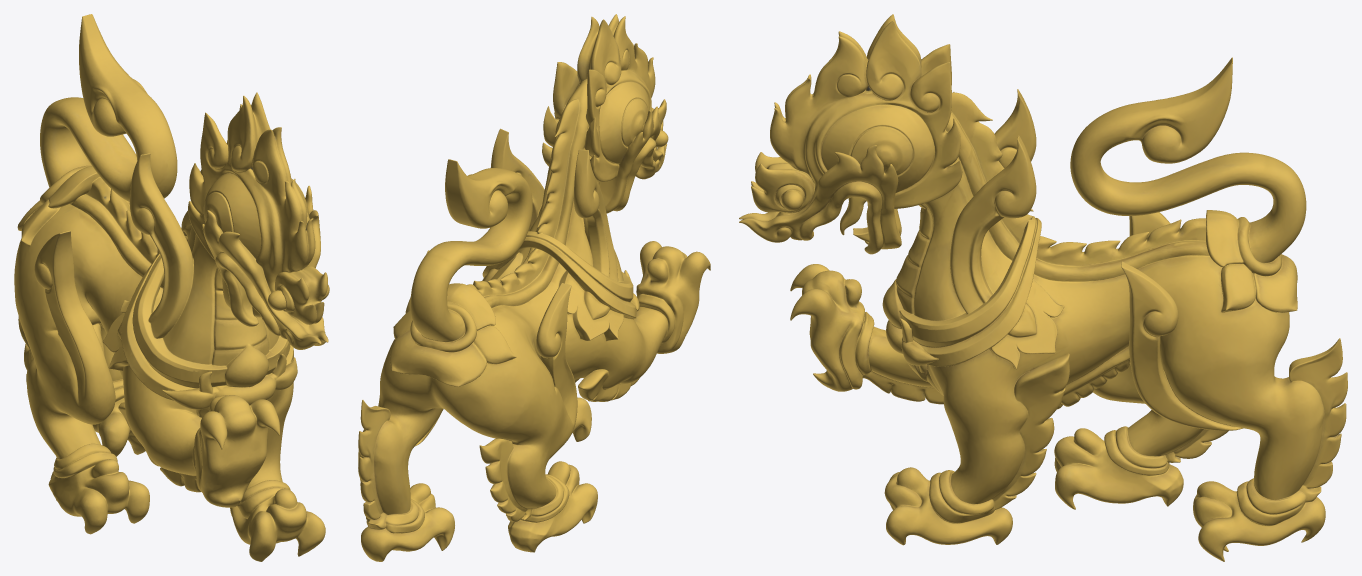
File: Singha3d.glb
The picture shows the model from 3 angles, left to right: view 1: azimuth 30°, elevation 25°; view 2: azimuth 150°, elevation 25°; view 3: azimuth 270°, elevation 25°; orthographic projection. The views are drawn at different scales.
Visible parts, largest first — view 1: mesh_0; view 2: mesh_0; view 3: mesh_0.
Part boxes in pixels (x1,y1,x2,y2): mesh_0: (14,14,329,561); mesh_0: (358,14,710,561); mesh_0: (739,14,1347,561).
Bounding box in the file's own units: 0.6336 × 1.76 × 1.9.
Materials: 1 (1 with a texture image).
